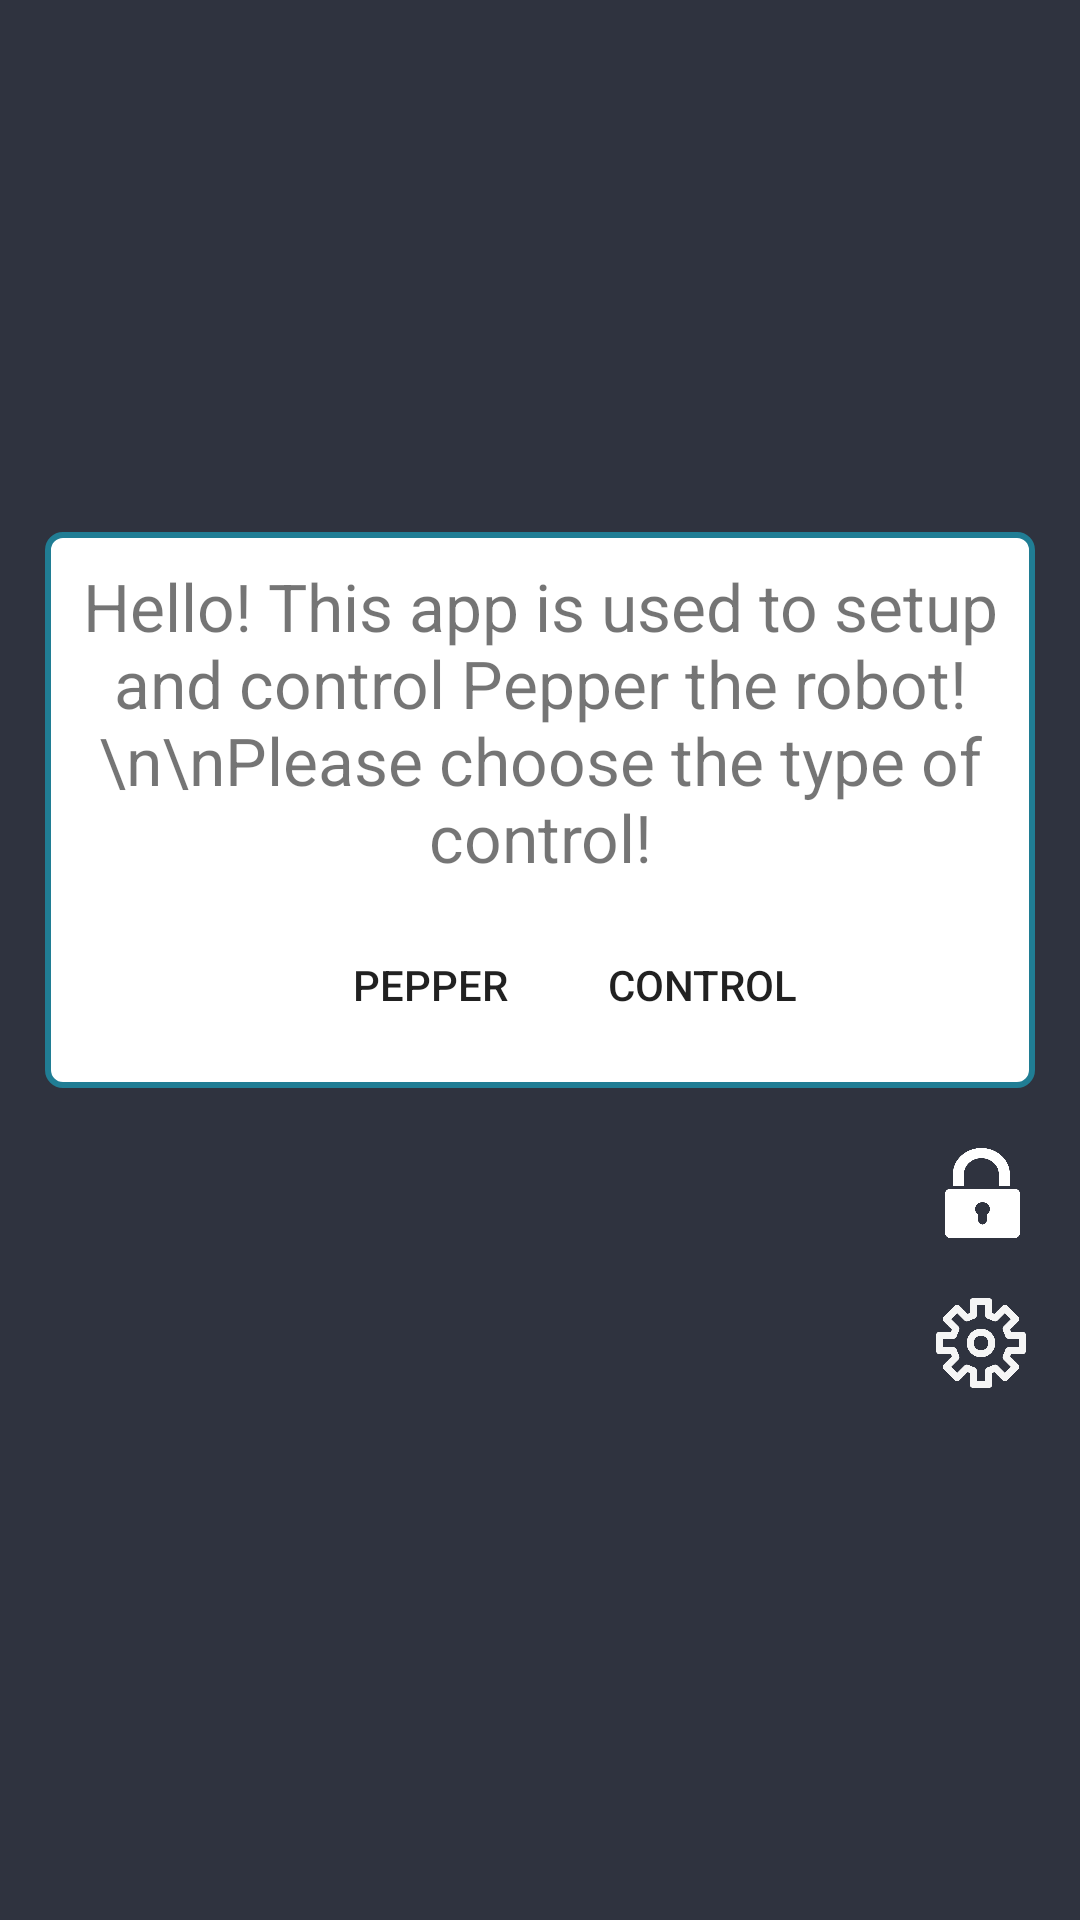

Screen size 1080px×1920px. Icon name, then its center in pixels as point (x, y):
lock: point (982, 1193)
settings: point (981, 1343)
